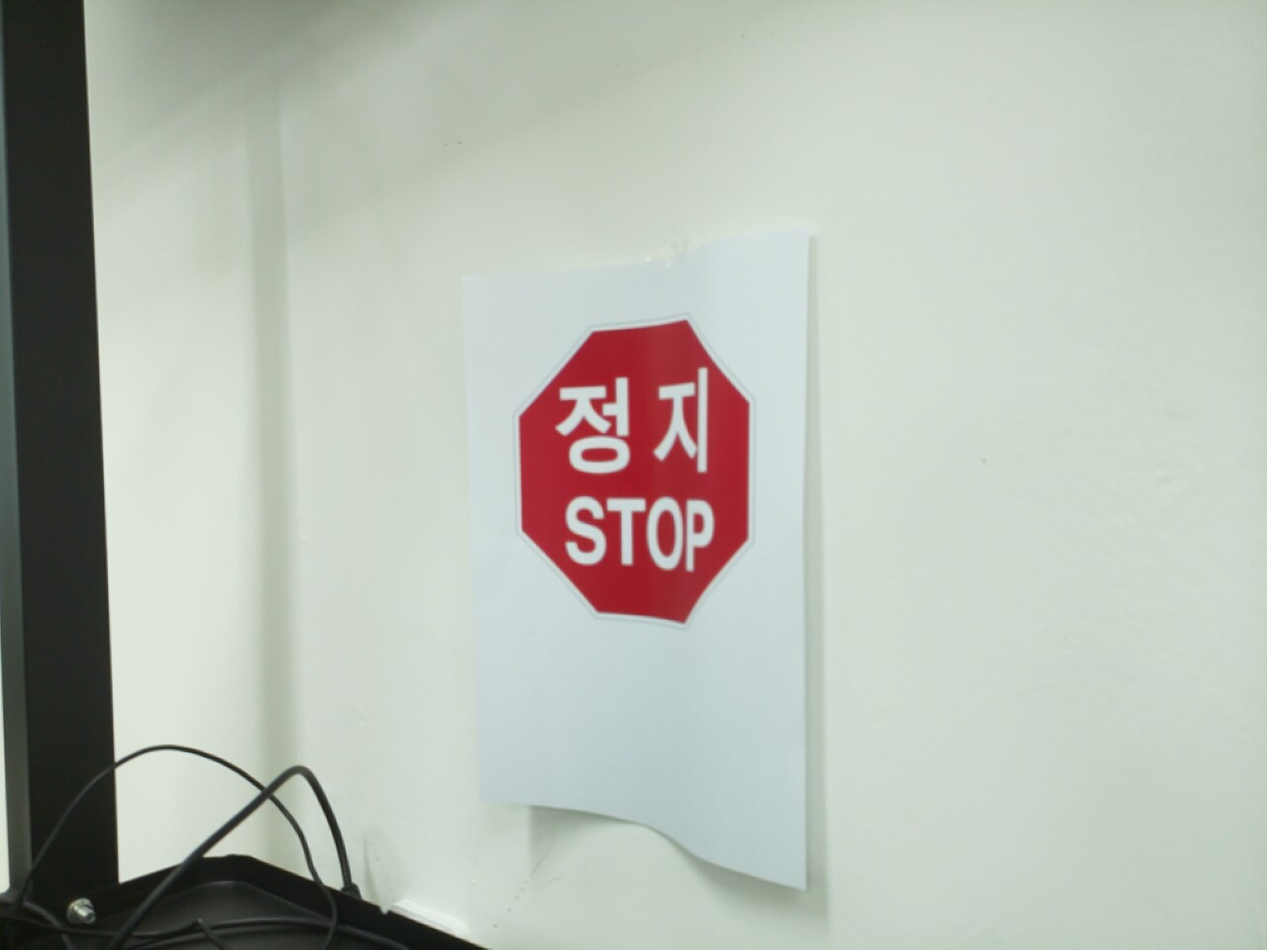stop: (511, 310, 757, 633)
